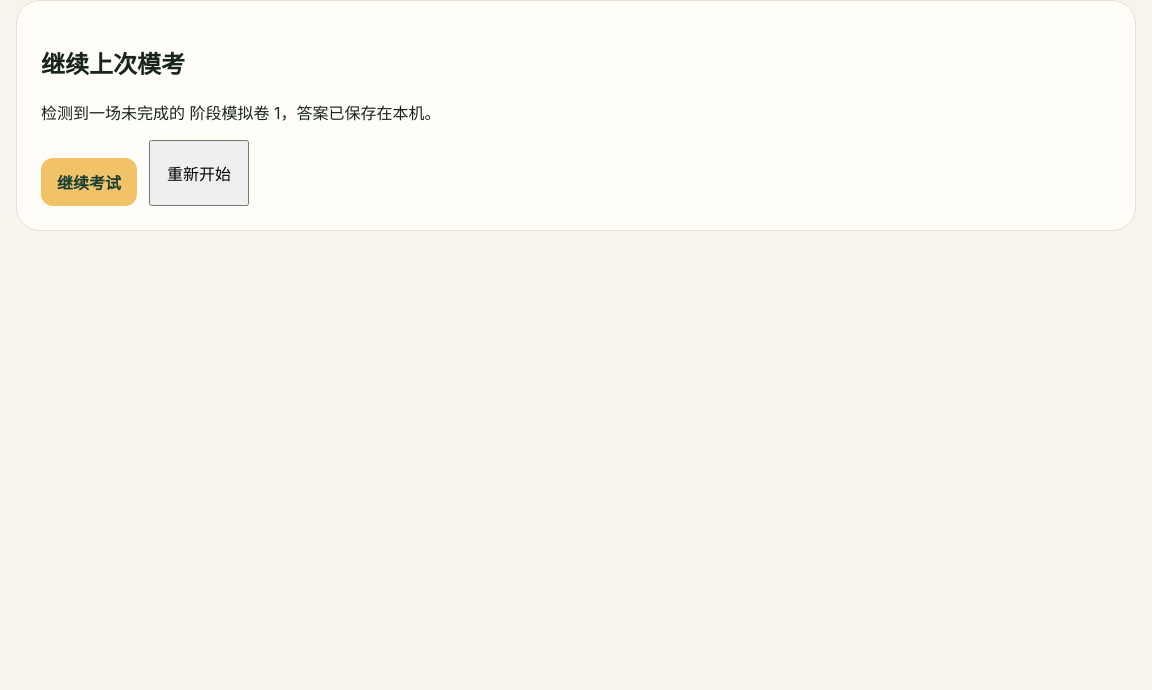
Test: ExamSession › offers to continue a recoverable active session
Check: the dialog "继续上次模考" is shown, box top-left (16, 0), bottom-right (1136, 231)
Click the button "继续考试". click: (89, 182)
box: top-left (41, 158), bottom-right (137, 206)
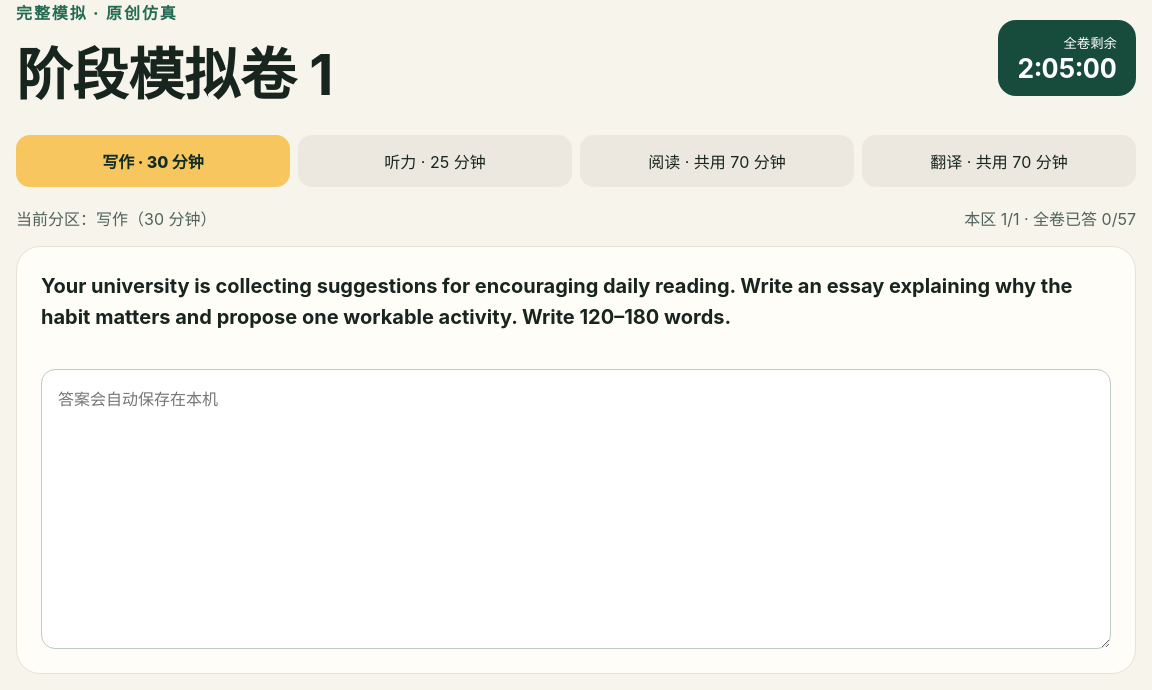
Check: the text "写作 · 30 分钟" is shown, box top-left (16, 135), bottom-right (290, 187)
